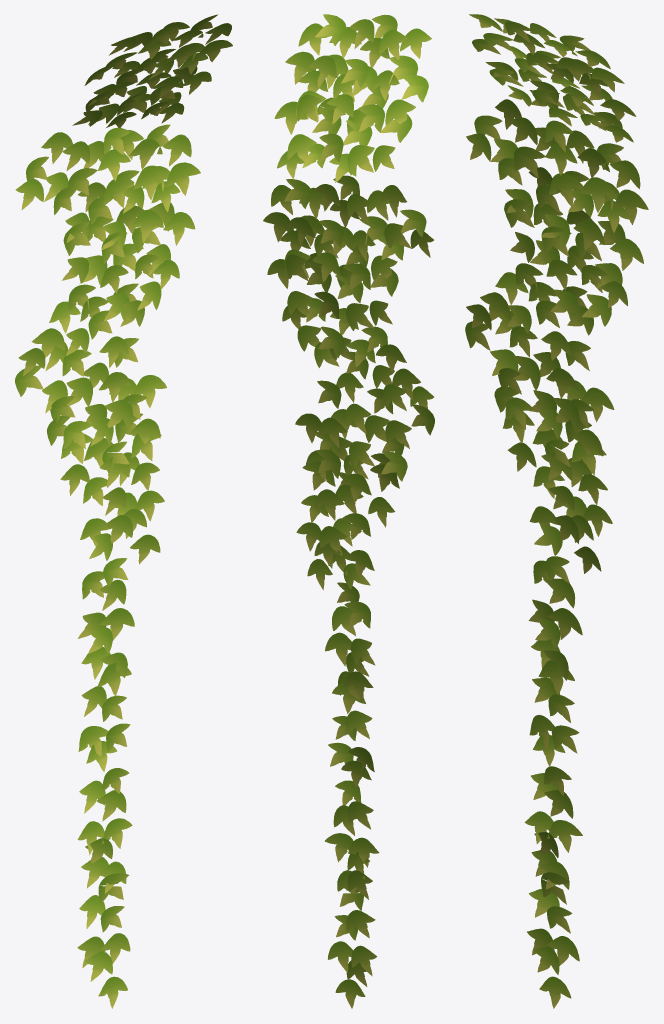
Rendered from Foliage_2.fbx.
3 renders of one model, left to right at view 1: azimuth 30°, elevation 25°; view 2: azimuth 150°, elevation 25°; view 3: azimuth 330°, elevation 25°, orthographic. The views are drawn at different scales.
Parts seen in each view (by area): view 1: wall_3__2_.001; view 2: wall_3__2_.001; view 3: wall_3__2_.001.
Boxes of the visible parts, x1,y1,x2,y2 form: wall_3__2_.001: [15, 14, 232, 1008]; wall_3__2_.001: [263, 14, 434, 1008]; wall_3__2_.001: [465, 14, 648, 1008].
Size of the model in its own units: 220 by 1123 by 108.
